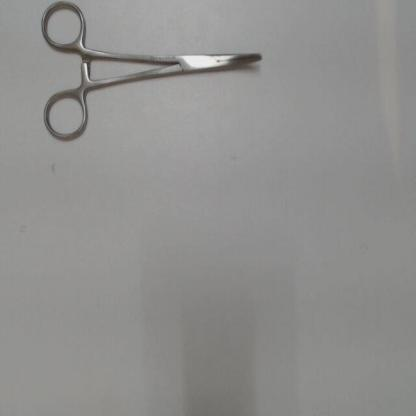Crile Artery Forceps: (38, 0, 272, 143)
